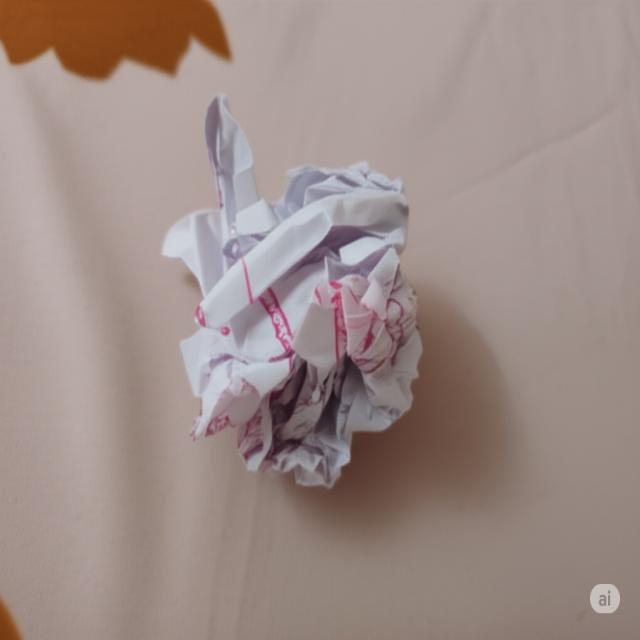paper: (158, 116, 426, 491)
